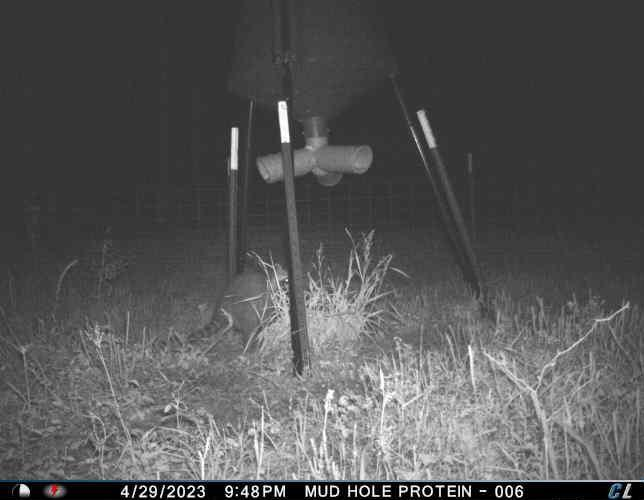Raccoon: (186, 261, 294, 351)
